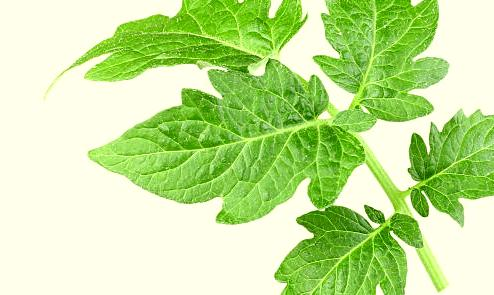Tomato leaf: (85, 60, 366, 246), (59, 0, 327, 110), (306, 0, 443, 145), (259, 181, 423, 295), (404, 106, 494, 236)
